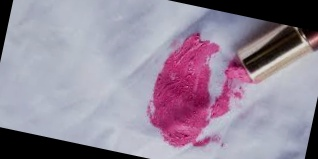lipstick: (136, 24, 239, 153)
